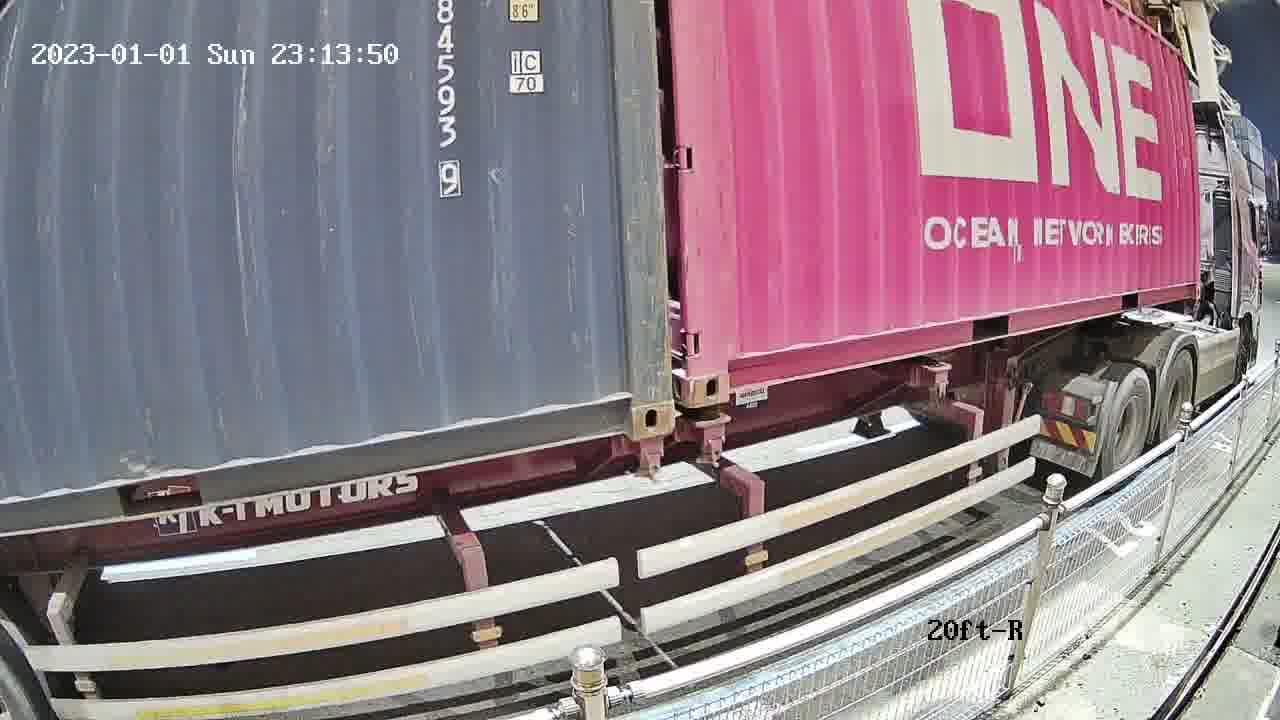Cone: (691, 402, 734, 467), (628, 436, 668, 481)
Hole_L: (689, 327, 760, 406)
Hole_R: (583, 352, 674, 440)
Tire: (1105, 371, 1153, 483), (1161, 354, 1194, 452)
